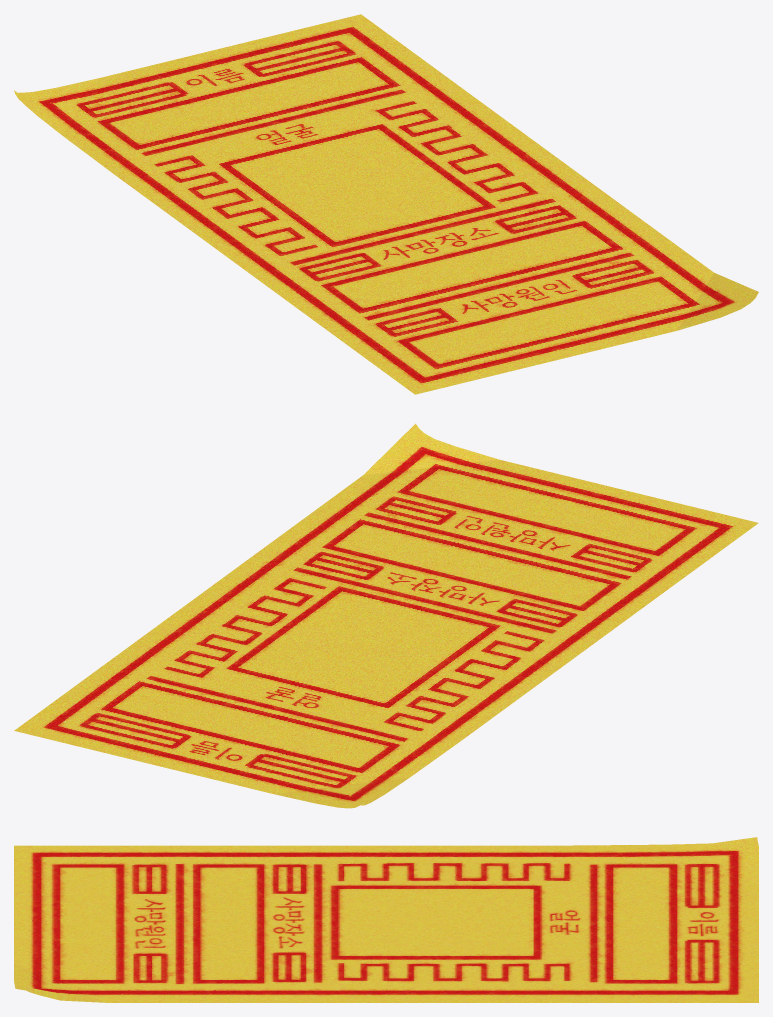
File: Amulet.fbx
3 views of the same model, one above another, from view 1: azimuth 30°, elevation 25°; view 2: azimuth 150°, elevation 25°; view 3: azimuth 270°, elevation 25° (orthographic). The views are drawn at different scales.
Visible parts, largest first — view 1: Plane; view 2: Plane; view 3: Plane.
Part boxes in pixels (x1,y1,x2,y2): Plane: [14, 14, 758, 394]; Plane: [14, 423, 758, 808]; Plane: [14, 837, 758, 1002].
Size of the model in its own units: 200 by 9.49 by 400.
1 material, 1 textured.
